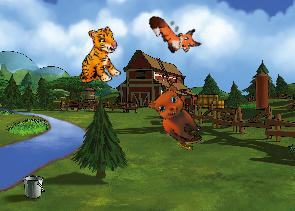bear: (142, 80, 212, 148)
fox: (145, 1, 204, 63)
tiger: (69, 25, 126, 88)
